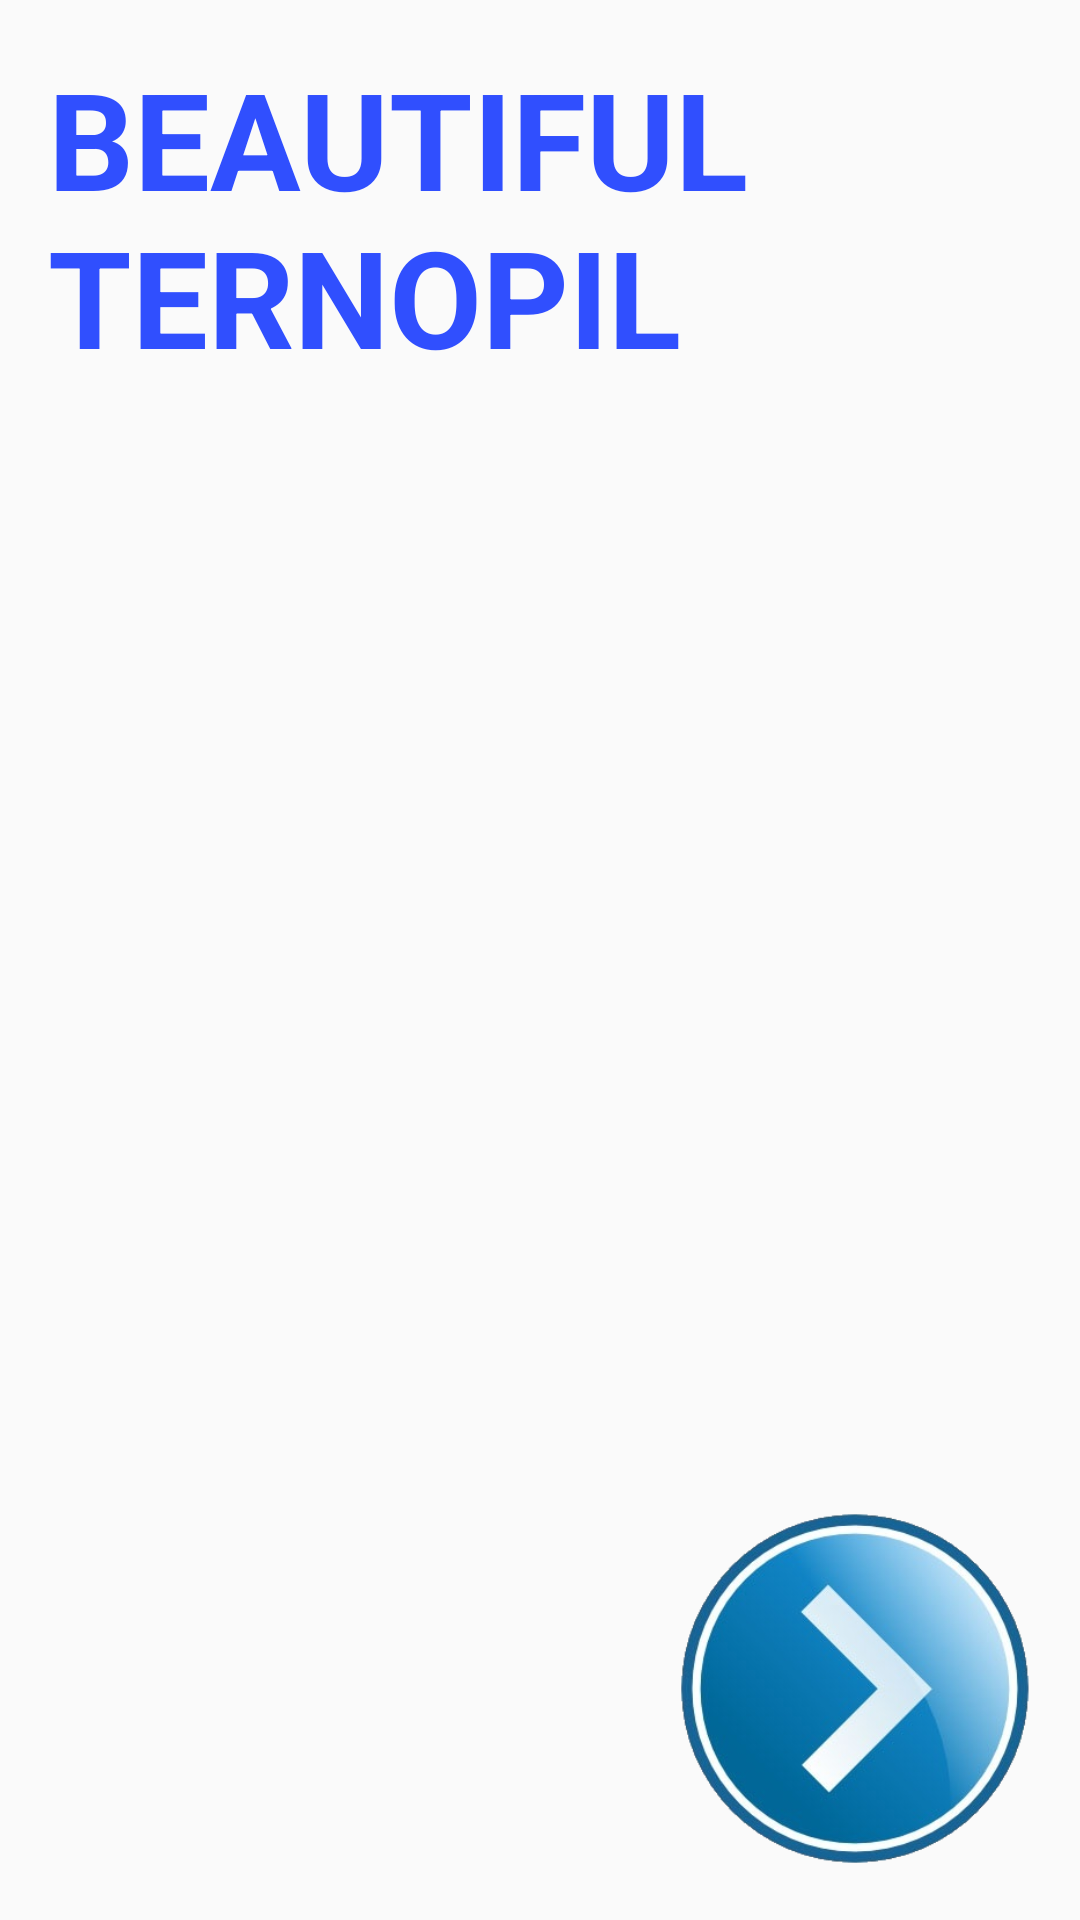

Icon click points for this 1080w x 1920h phone screenshot, format point (x, y):
blafibuttonright: point (855, 1688)
